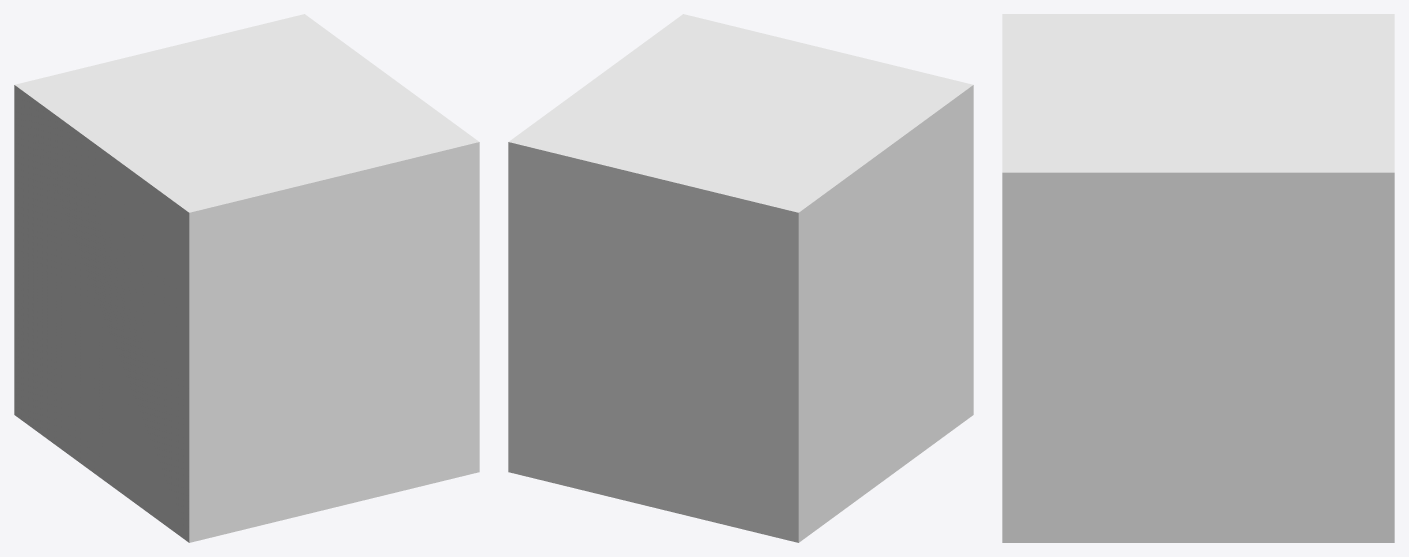
Rendered from head_square.glb.
3 views of the same model, side by side, from view 1: azimuth 30°, elevation 25°; view 2: azimuth 150°, elevation 25°; view 3: azimuth 270°, elevation 25° (orthographic). The views are drawn at different scales.
Parts seen in each view (by area): view 1: head_square; view 2: head_square; view 3: head_square.
Part boxes in pixels (left/top/right/bottom): head_square: left=14, top=14, right=479, bottom=542; head_square: left=508, top=14, right=973, bottom=542; head_square: left=1002, top=14, right=1394, bottom=542.
Bounding box in the file's own units: 0.46 × 0.5 × 0.48.
Materials: 1 (1 with a texture image).
